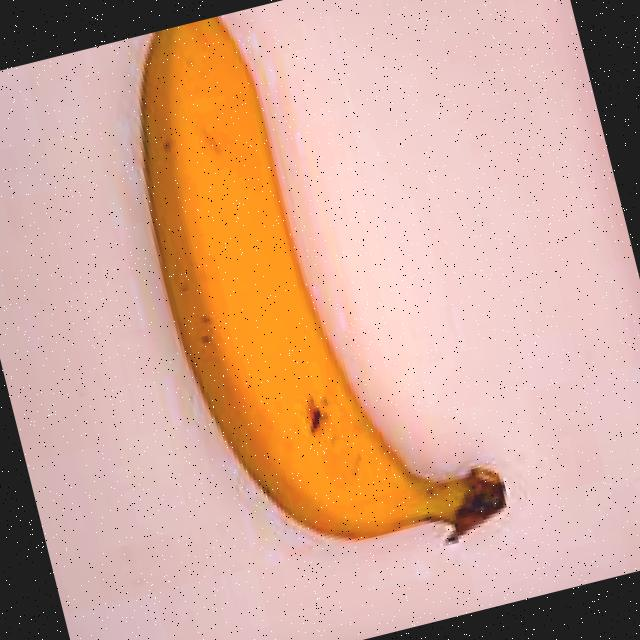Ripe: (57, 0, 538, 626)
